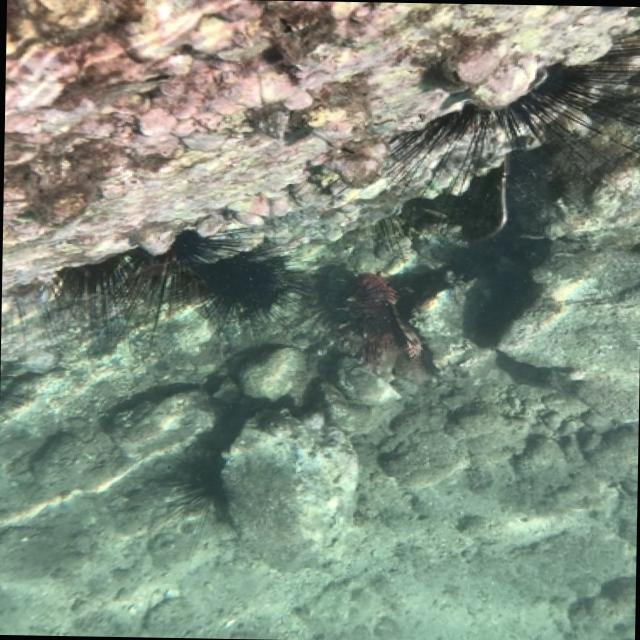Aslan Baligi: (328, 256, 432, 380)
